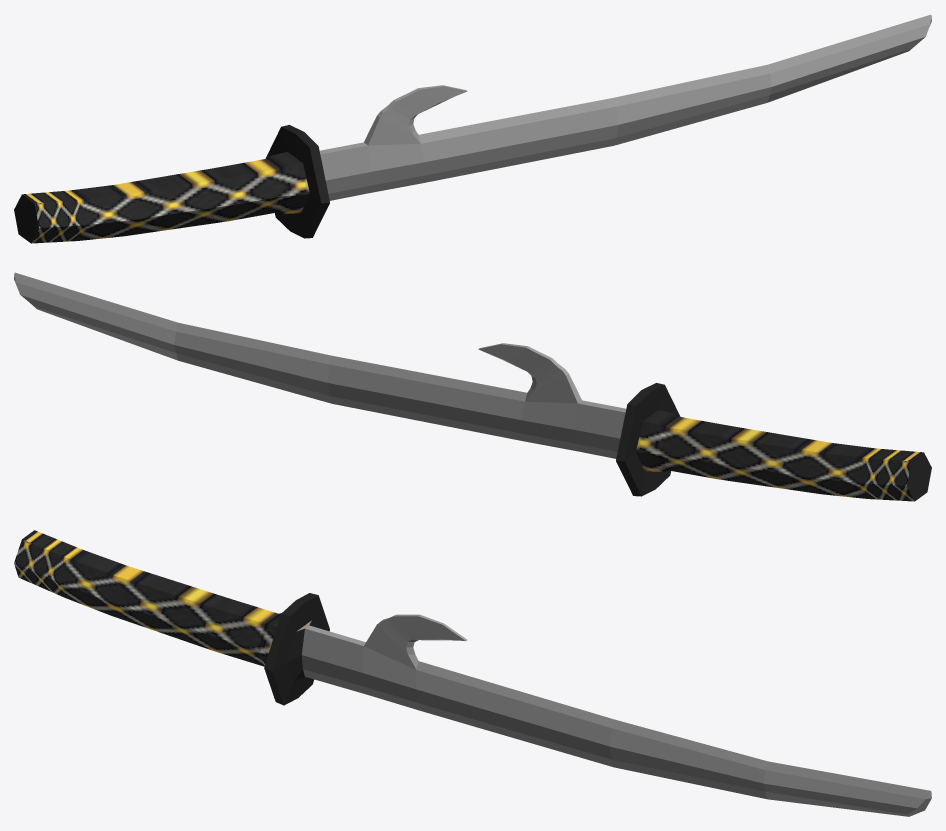
File: Helmet Breaker.fbx
The picture shows the model from 3 angles, top to bottom: view 1: azimuth 30°, elevation 25°; view 2: azimuth 150°, elevation 25°; view 3: azimuth 330°, elevation 25°; orthographic projection.
Visible parts, largest first — view 1: HACHIWARI; view 2: HACHIWARI; view 3: HACHIWARI.
Part boxes in pixels (x1,y1,x2,y2): HACHIWARI: [14, 14, 931, 243]; HACHIWARI: [14, 272, 931, 501]; HACHIWARI: [14, 530, 931, 816].
Size of the model in its own units: 62.05 by 7.33 by 6.86.
